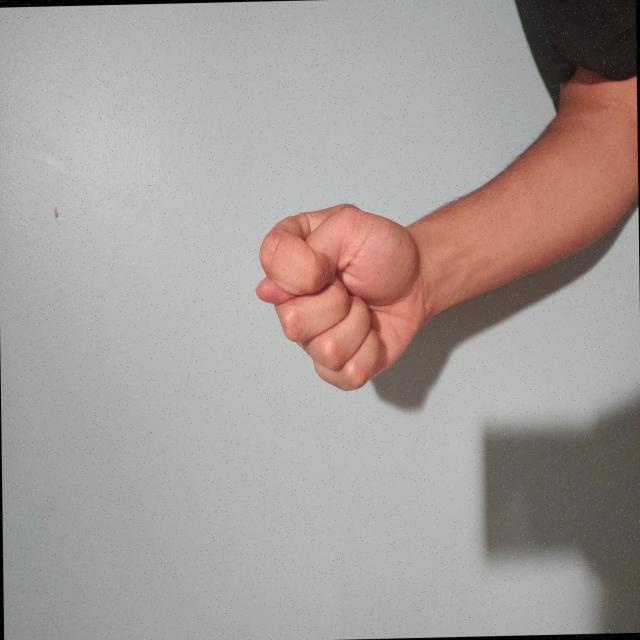T: (181, 334, 336, 572)
